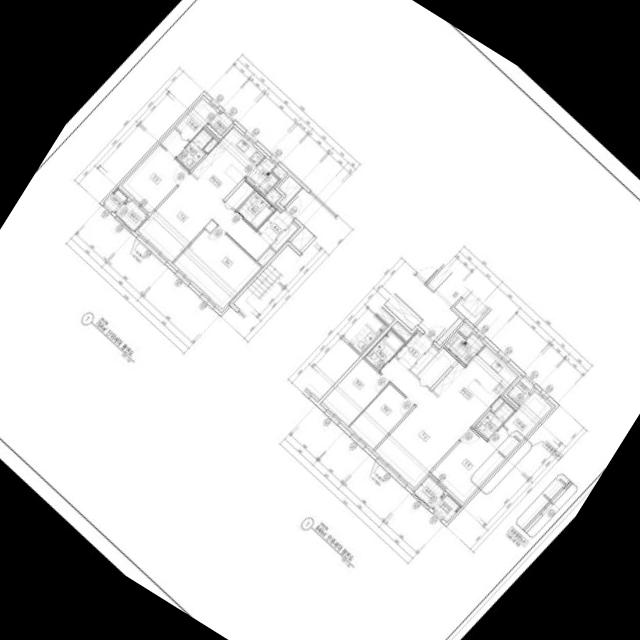background: (0, 0, 640, 640)
space_balconi: (444, 332, 484, 365), (245, 157, 278, 196), (114, 200, 146, 231), (413, 476, 444, 508)
space_bedroom: (172, 226, 260, 309), (430, 428, 503, 503), (321, 358, 388, 426), (121, 145, 188, 213), (348, 383, 413, 449)
space_dressroom: (488, 391, 551, 457), (160, 98, 216, 157)
space_front: (256, 209, 297, 251), (394, 332, 432, 369)
space_kitchen: (432, 346, 518, 426), (191, 127, 264, 201)
space_living_room: (374, 357, 470, 488), (137, 174, 270, 262)
space_other: (416, 347, 456, 388), (225, 180, 254, 210), (506, 376, 533, 405), (410, 347, 437, 375), (436, 317, 462, 345), (278, 176, 301, 207), (289, 227, 313, 251), (208, 112, 232, 135), (390, 322, 410, 342), (257, 248, 274, 266), (264, 189, 279, 204), (490, 397, 504, 412), (203, 138, 217, 153), (458, 325, 471, 338), (271, 167, 284, 179)
space_outdoor_room: (432, 494, 460, 522), (103, 188, 127, 212)
space_toilet: (364, 329, 404, 371), (473, 402, 514, 440), (176, 128, 212, 170), (236, 191, 275, 229)
